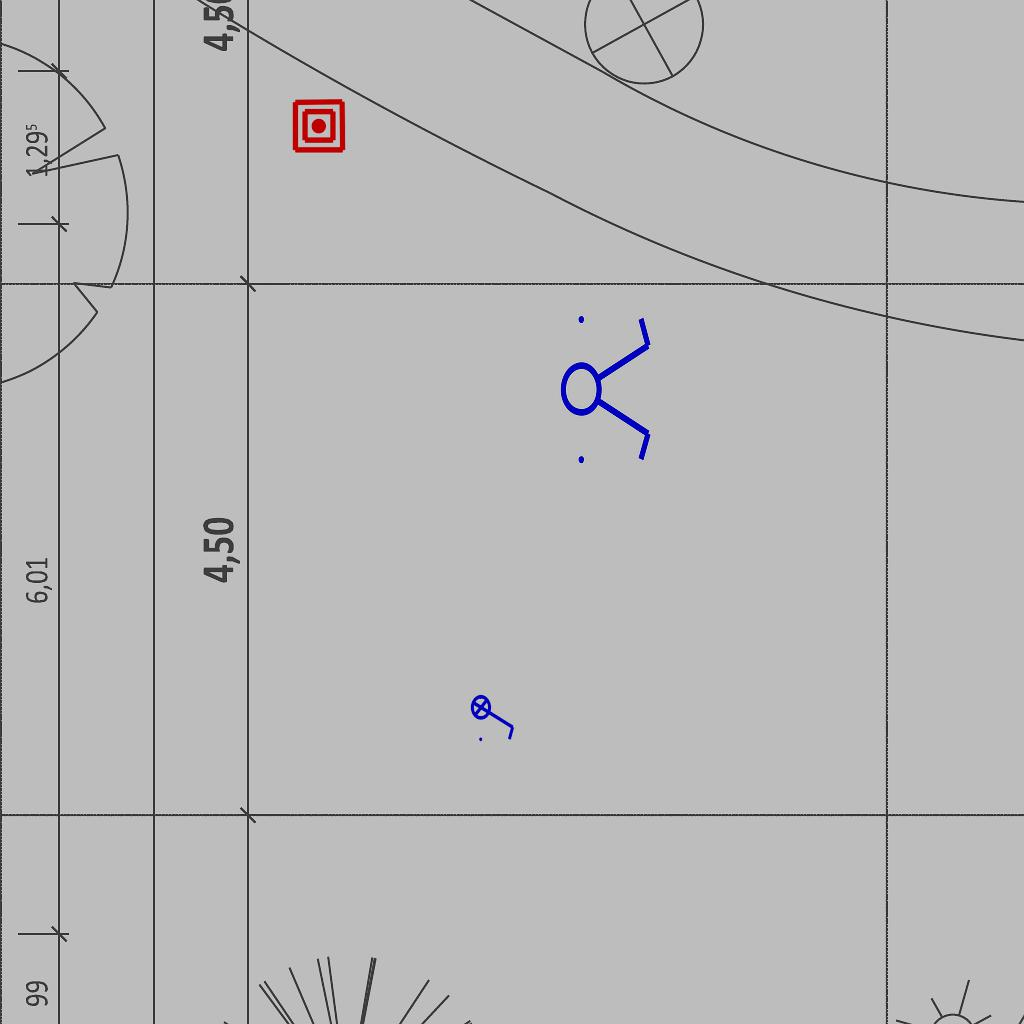Ausschalter_beleuchtet: (470, 688, 518, 744)
NAM-Nichtautomatischer_Melder: (291, 98, 347, 154)
Serienschalter: (559, 304, 655, 472)
